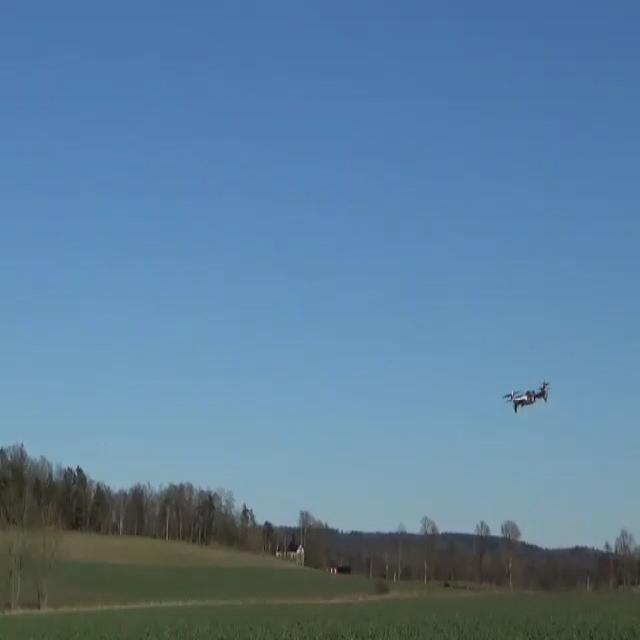drone: (502, 382, 552, 414)
